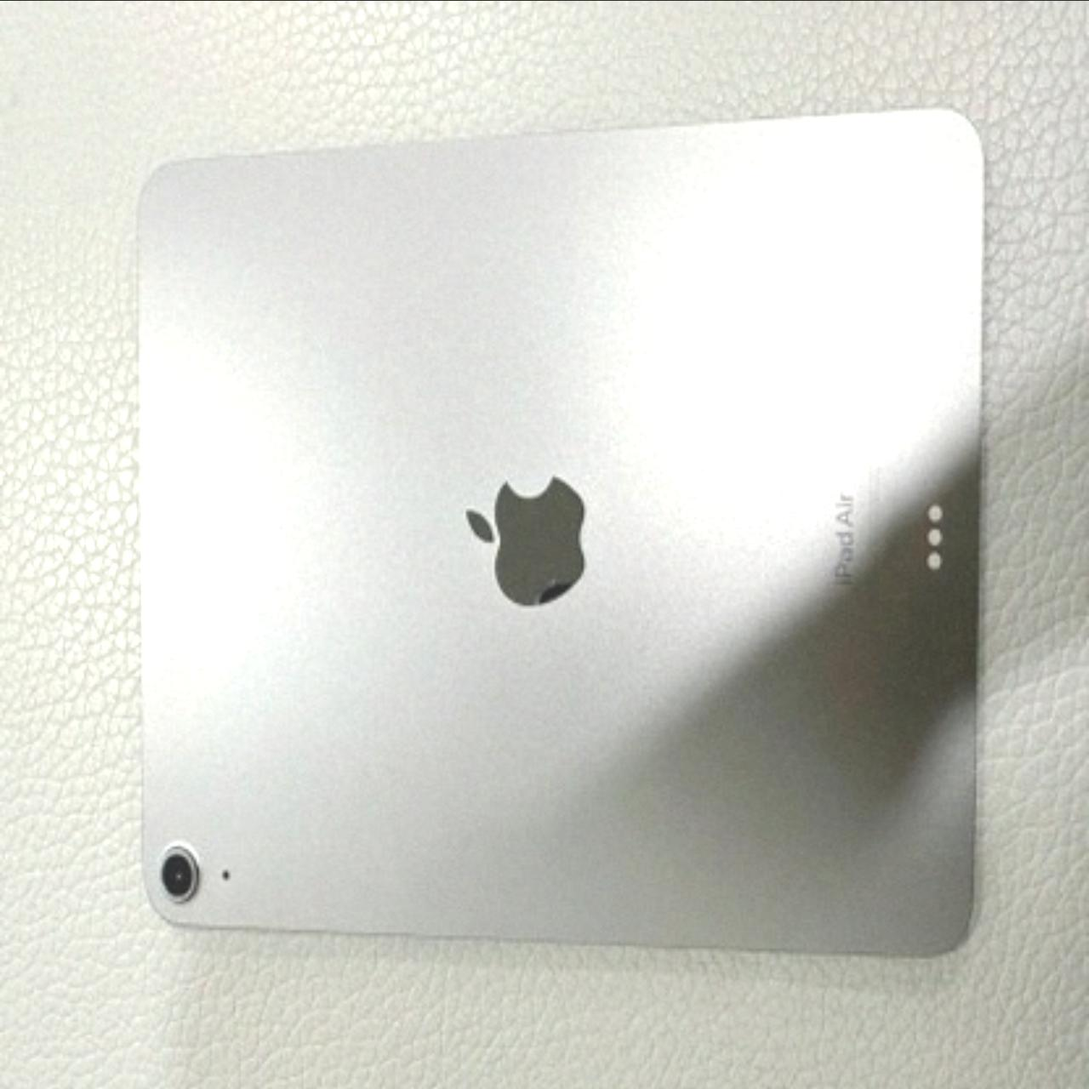Tablet_PC: (123, 83, 1015, 968)
